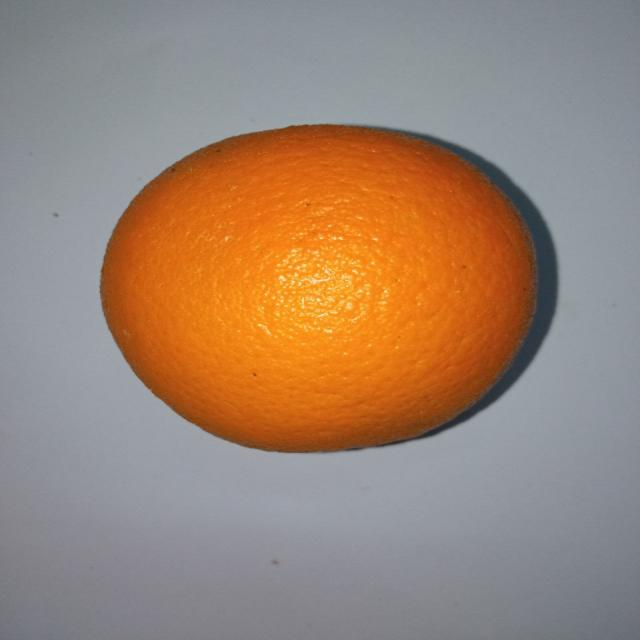fresh_orange: (96, 125, 539, 452)
